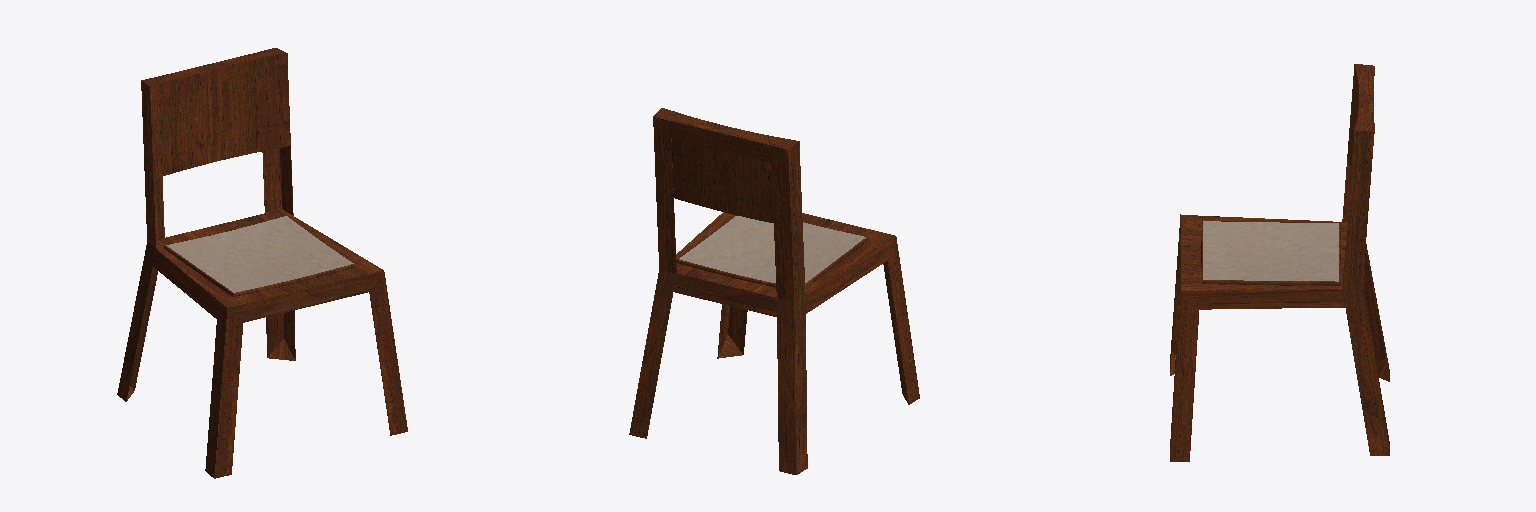
3 renders of one model, left to right at view 1: azimuth 30°, elevation 25°; view 2: azimuth 150°, elevation 25°; view 3: azimuth 270°, elevation 25°, orthographic.
Visible parts, largest first — view 1: Obj_000005, Obj_000008, brep_1_004, Obj_0389, brep_1, Obj_0369, Obj_000007; view 2: Obj_000005, brep_1_004, Obj_000008, brep_1, Obj_0389, brep_3, Obj_0369, Obj_000007; view 3: Obj_000005, brep_1, Obj_0369, brep_1_004, Obj_000007, Obj_0389, Obj_000008.
Boxes of the visible parts, x1,y1,x2,y2 form: Obj_000005: [153, 209, 382, 322]; Obj_000008: [150, 54, 290, 178]; brep_1_004: [117, 78, 164, 401]; Obj_0389: [205, 308, 242, 478]; brep_1: [260, 48, 295, 360]; Obj_0369: [369, 270, 407, 435]; Obj_000007: [142, 48, 286, 86]; Obj_000005: [674, 212, 894, 316]; brep_1_004: [771, 141, 807, 474]; Obj_000008: [672, 139, 773, 222]; brep_1: [629, 108, 676, 438]; Obj_0389: [883, 236, 919, 404]; brep_3: [671, 121, 770, 162]; Obj_0369: [717, 304, 747, 358]; Obj_000007: [654, 108, 798, 148]; Obj_000005: [1180, 215, 1364, 309]; brep_1: [1342, 123, 1389, 455]; Obj_0369: [1170, 291, 1198, 461]; brep_1_004: [1342, 64, 1389, 381]; Obj_000007: [1355, 64, 1373, 130]; Obj_0389: [1170, 214, 1180, 375]; Obj_000008: [1348, 64, 1358, 168].
Size of the model in its own units: 75.85 by 119 by 74.82.
2 materials, 2 textured.